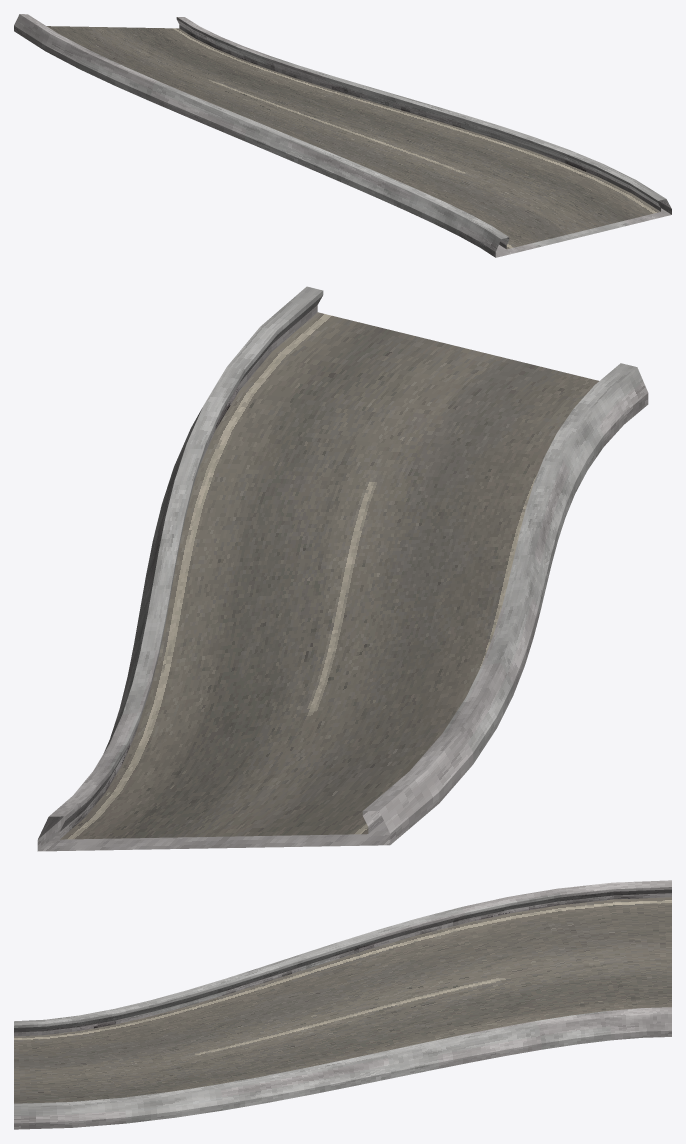
The model's file is chicane-left1x3.glb.
The picture shows the model from 3 angles, top to bottom: view 1: azimuth 30°, elevation 25°; view 2: azimuth 150°, elevation 25°; view 3: azimuth 270°, elevation 25°; orthographic projection. The views are drawn at different scales.
Parts seen in each view (by area): view 1: road-Chicane-Flat-HalfBankedRight-Even-Left1-Size3; view 2: road-Chicane-Flat-HalfBankedRight-Even-Left1-Size3; view 3: road-Chicane-Flat-HalfBankedRight-Even-Left1-Size3.
Part boxes in pixels (x1,y1,x2,y2): road-Chicane-Flat-HalfBankedRight-Even-Left1-Size3: (14,14,671,257); road-Chicane-Flat-HalfBankedRight-Even-Left1-Size3: (37,286,648,851); road-Chicane-Flat-HalfBankedRight-Even-Left1-Size3: (14,880,671,1129).
Size of the model in its own units: 2 by 0.3359 by 3.
Materials: 2 (2 with a texture image).
